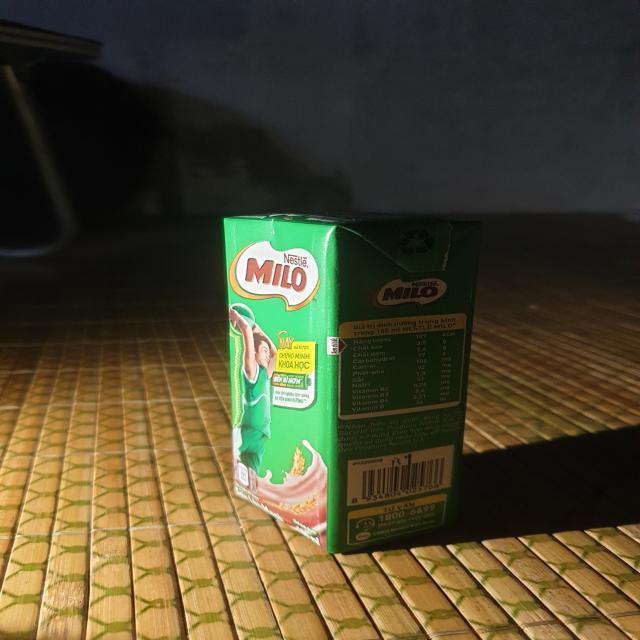Milo: (224, 207, 488, 558)
